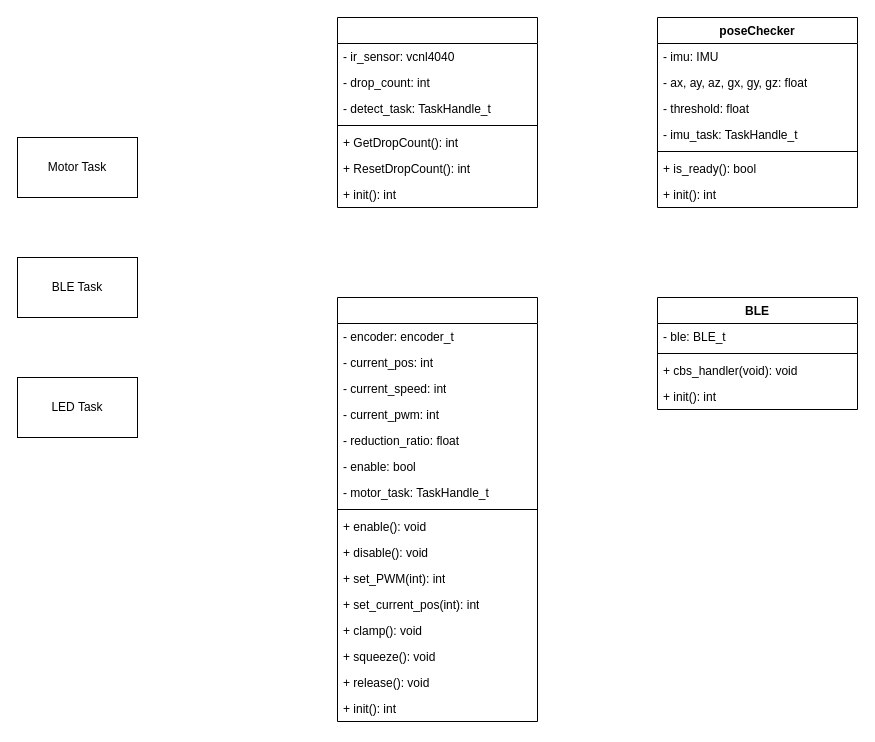
Some shapes in this 875 by 742 pixel diagram are drawn without their labels. Each missing label, with the box of its shape:
DropCounter: (336, 16, 538, 208)
MotorN20: (336, 296, 538, 722)
